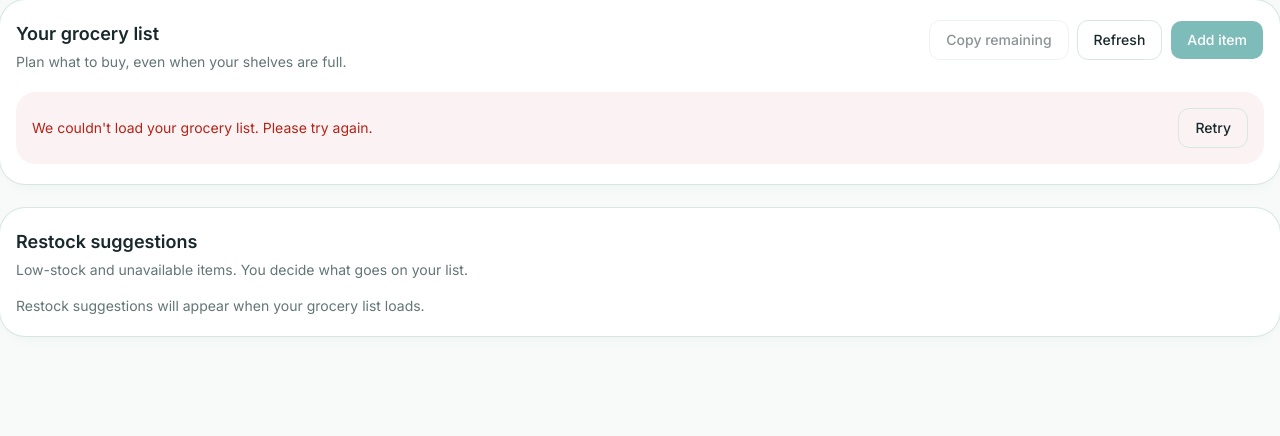
Scenario: retry returns keyboard focus to Refresh while the initial request recovers
The width and height of the screenshot is (1280, 436).
Click the button "Retry" at (1213, 128), box [1178,108,1248,148]
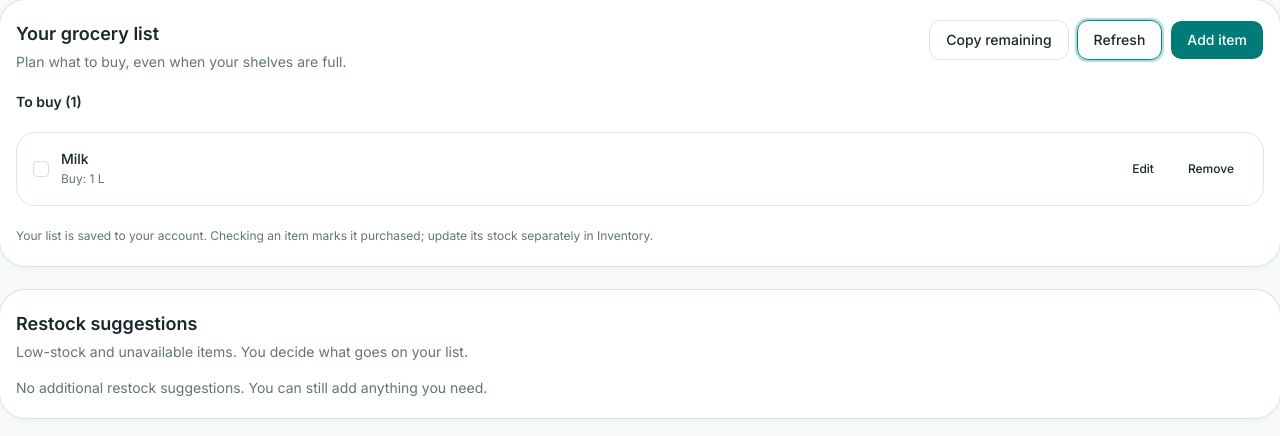
Expected: the button "Retry" is gone
Expected: the checkbox named "Milk" is shown, [33,161,49,177]
